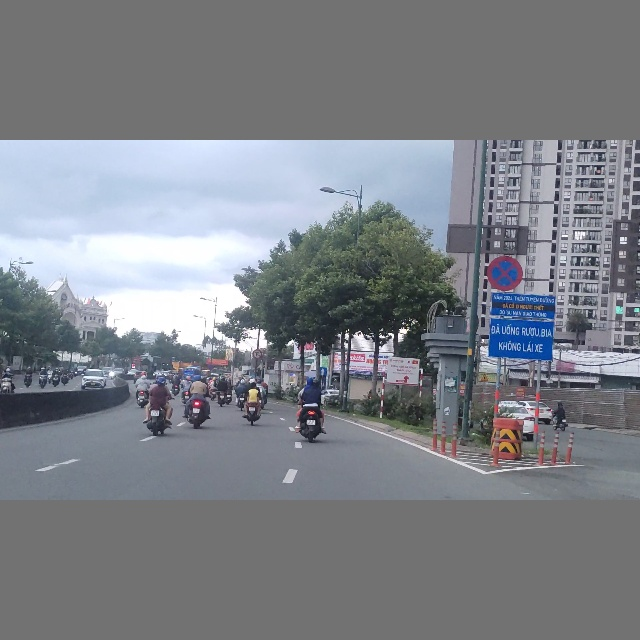I.407a: (319, 367, 327, 375)
P.123b: (253, 349, 262, 359)
P.130: (487, 255, 523, 291)
